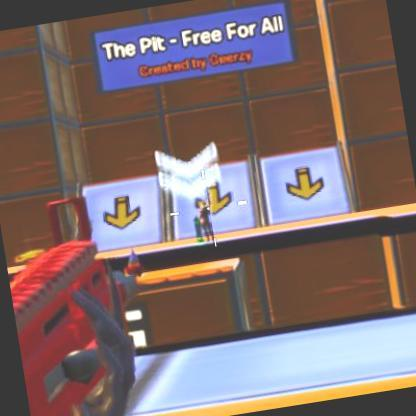person: (196, 201, 219, 248)
